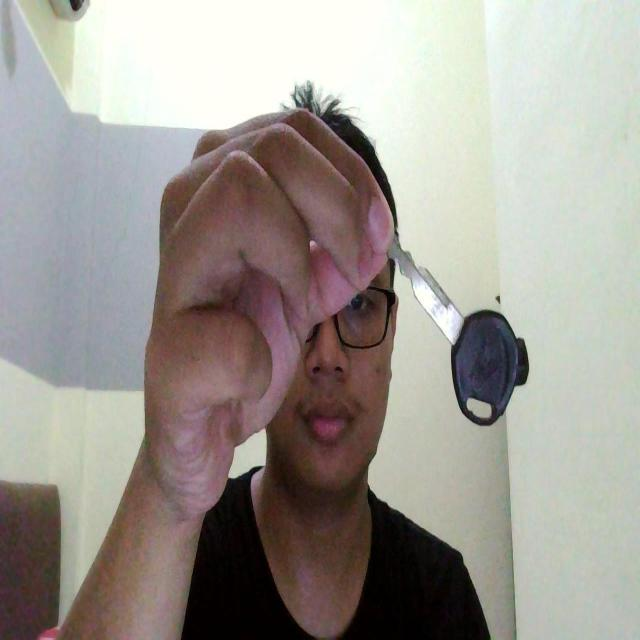kunci_motor: (393, 197, 533, 436)
